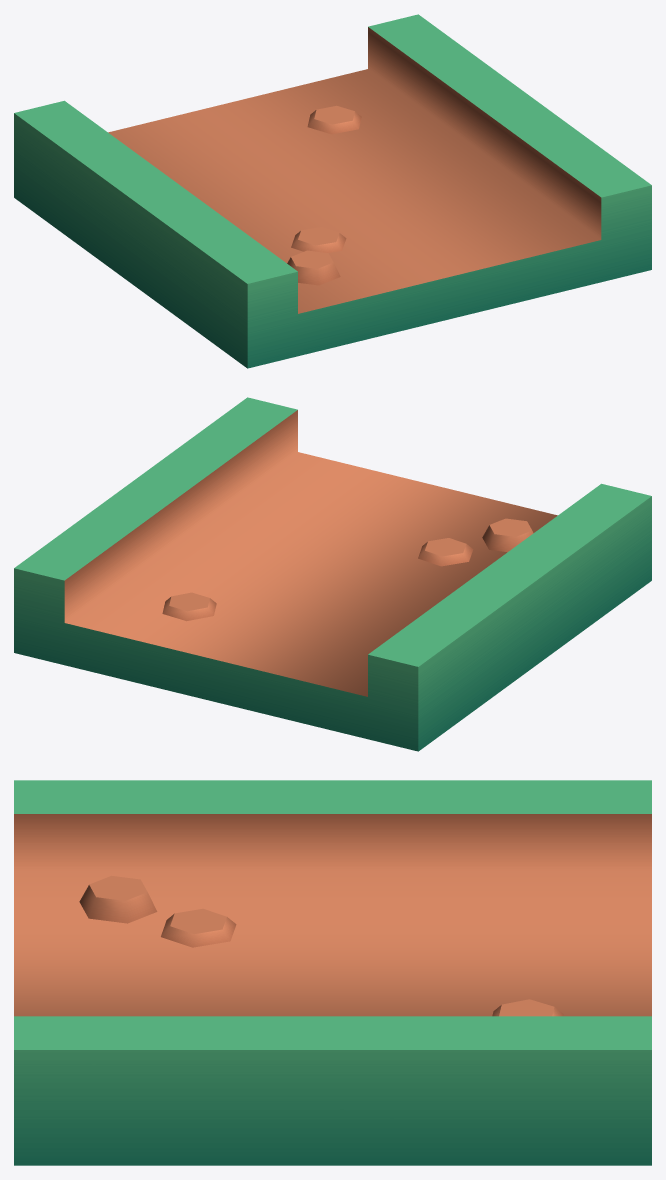
File: tile-straight.fbx
The picture shows the model from 3 angles, top to bottom: view 1: azimuth 30°, elevation 25°; view 2: azimuth 150°, elevation 25°; view 3: azimuth 270°, elevation 25°; orthographic projection. The views are drawn at different scales.
Parts seen in each view (by area): view 1: tile-straight; view 2: tile-straight; view 3: tile-straight.
Part boxes in pixels (x1,y1,x2,y2): tile-straight: [14, 14, 651, 368]; tile-straight: [14, 397, 651, 751]; tile-straight: [14, 780, 651, 1165].
Bounding box in the file's own units: 100 × 20 × 100.
